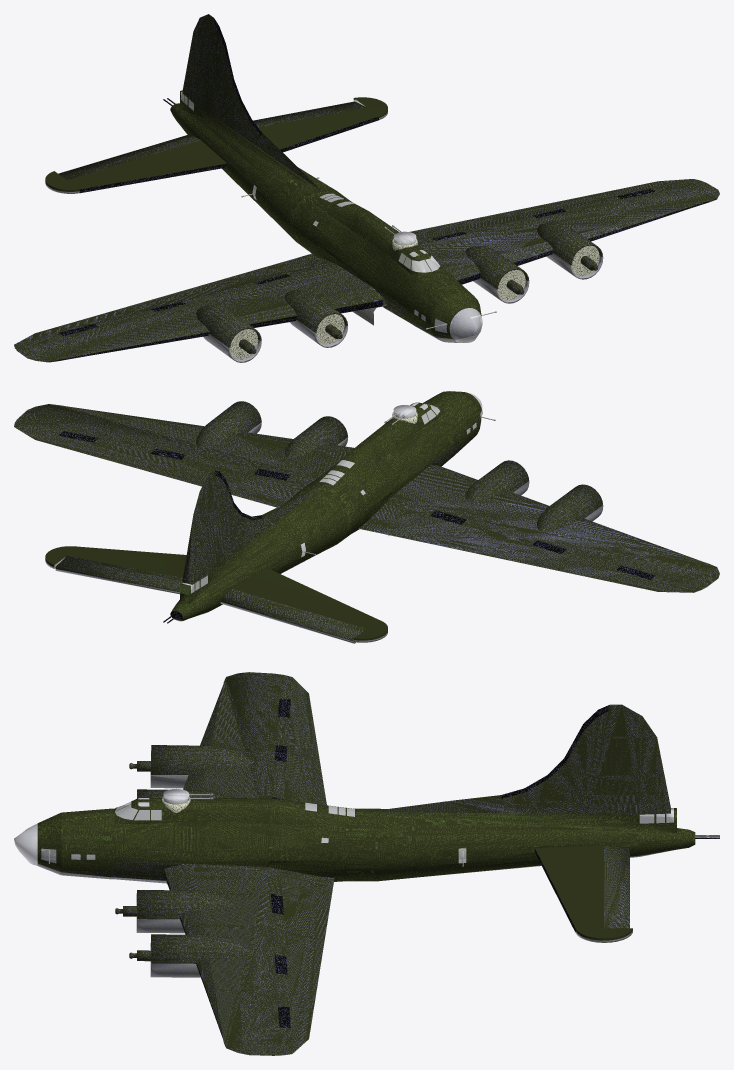
3 views of the same model, one above another, from view 1: azimuth 30°, elevation 25°; view 2: azimuth 150°, elevation 25°; view 3: azimuth 270°, elevation 25° (orthographic). The views are drawn at different scales.
Visible parts, largest first — view 1: Wing1_1 (×4), Fuselage_1 (×3), Tail (×5), Engine (×4), NoseCanopy_Plexiglas; view 2: Wing1_1 (×2), Fuselage_1 (×3), Tail (×4), Engine (×4); view 3: Fuselage_1 (×5), Wing1_1 (×2), Engine (×5), Tail (×2), NoseCanopy_Plexiglas.
Part boxes in pixels (x1,y1,x2,y2): Wing1_1 (×4): (14, 179, 719, 362); Fuselage_1 (×3): (170, 14, 481, 338); Tail (×5): (45, 97, 387, 193); Engine (×4): (196, 221, 602, 347); NoseCanopy_Plexiglas: (449, 308, 482, 342); Wing1_1 (×2): (14, 404, 719, 592); Fuselage_1 (×3): (171, 391, 482, 620); Tail (×4): (45, 546, 387, 641); Engine (×4): (196, 401, 602, 531); Fuselage_1 (×5): (37, 704, 695, 881); Wing1_1 (×2): (164, 672, 333, 1055); Engine (×5): (136, 745, 254, 977); Tail (×2): (535, 845, 632, 940); NoseCanopy_Plexiglas: (14, 823, 37, 865).
Bounding box in the file's own units: 1188 × 925 × 279.
8 materials, 1 textured.
